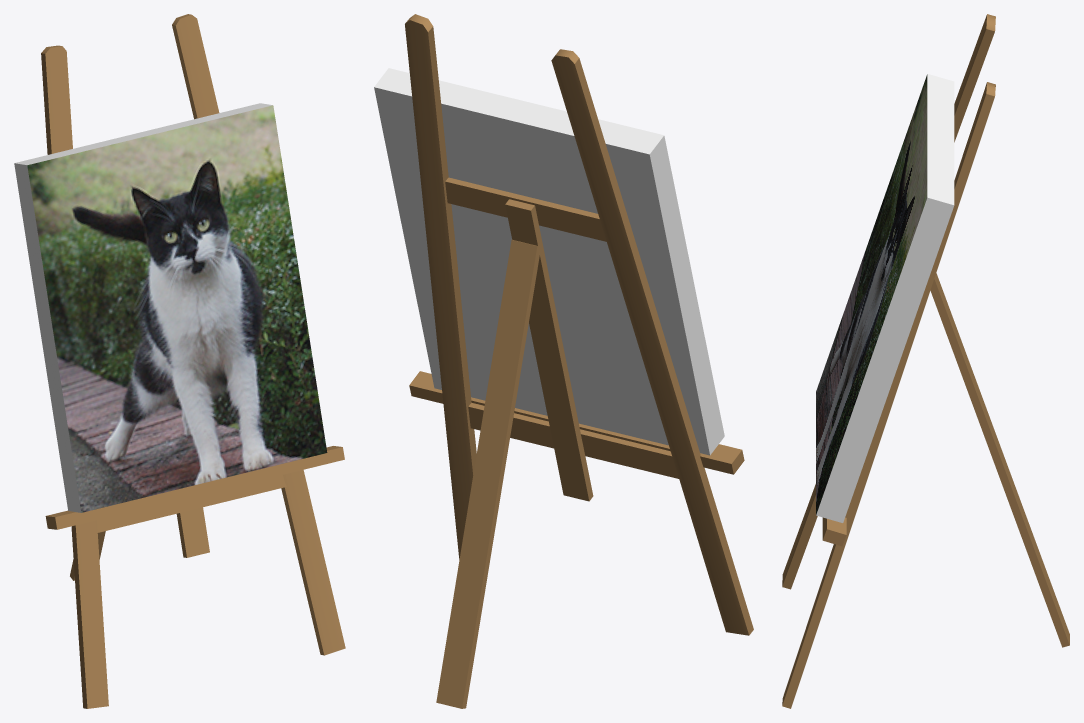
File: ajoumeo_2.fbx
3 renders of one model, left to right at view 1: azimuth 30°, elevation 25°; view 2: azimuth 150°, elevation 25°; view 3: azimuth 270°, elevation 25°, orthographic. The views are drawn at different scales.
Visible parts, largest first — view 1: ajoumeo_02; view 2: ajoumeo_02; view 3: ajoumeo_02.
Boxes of the visible parts, box(x1,y1,x2,y2) form: ajoumeo_02: box(14, 14, 345, 708); ajoumeo_02: box(374, 14, 753, 708); ajoumeo_02: box(782, 14, 1069, 708).
Size of the model in its own units: 0.6744 by 1.3 by 0.5661.
1 material, 1 textured.
